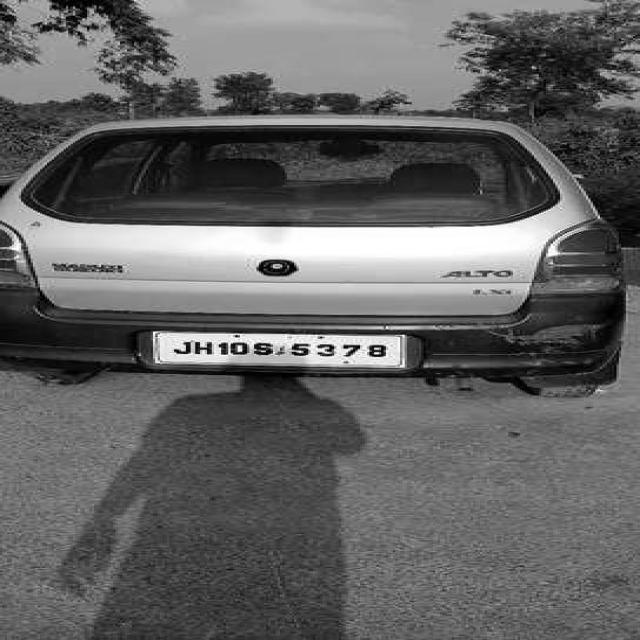car: (0, 119, 631, 398)
license-plate: (156, 332, 410, 368)
